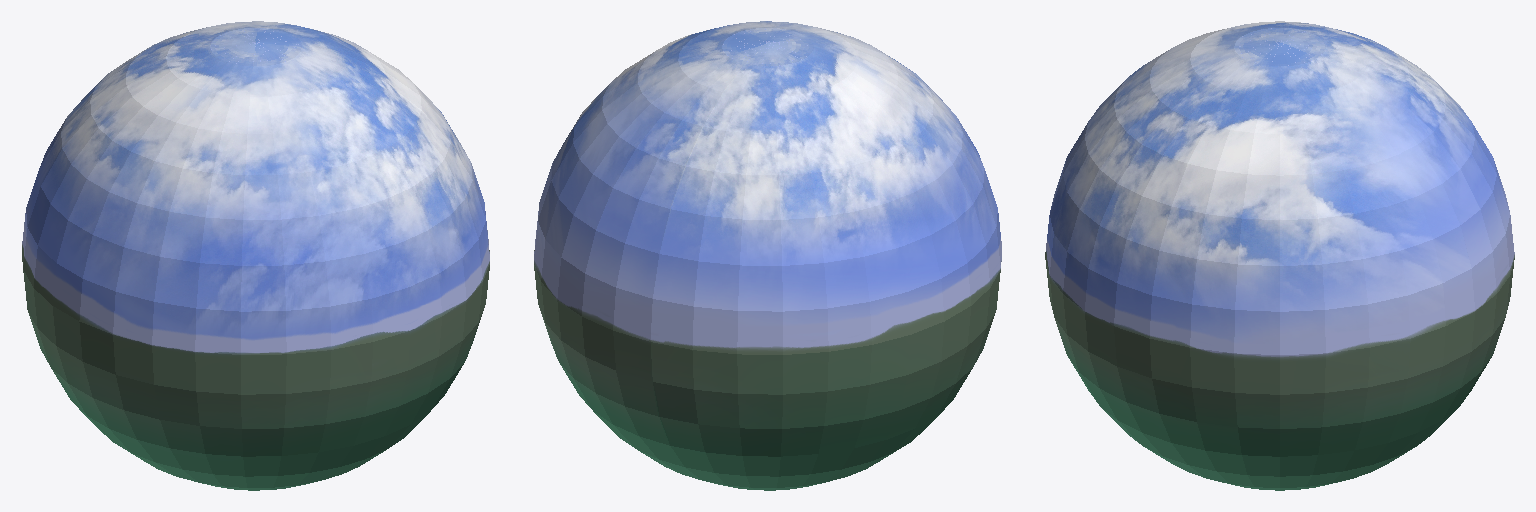
3 views of the same model, side by side, from view 1: azimuth 30°, elevation 25°; view 2: azimuth 150°, elevation 25°; view 3: azimuth 270°, elevation 25° (orthographic).
Parts seen in each view (by area): view 1: Cylinder_Cylinder.001; view 2: Cylinder_Cylinder.001; view 3: Cylinder_Cylinder.001.
Boxes of the visible parts, x1,y1,x2,y2 form: Cylinder_Cylinder.001: [22, 21, 489, 490]; Cylinder_Cylinder.001: [534, 21, 1001, 490]; Cylinder_Cylinder.001: [1045, 21, 1514, 490].
Bounding box in the file's own units: 400 × 401 × 400.
1 materials, 1 textured.